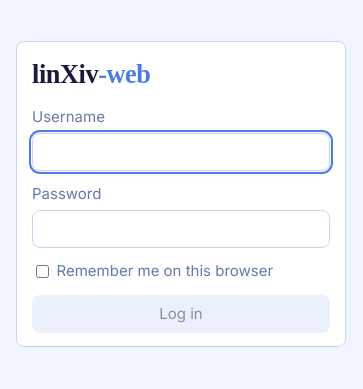
it: Login › shows the server error
Type "bob" into the field labelled "Username" at (181, 152), box 32,133 -> 330,171
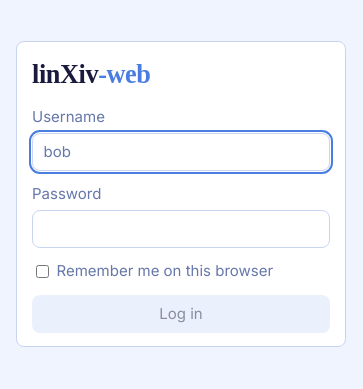
Type "nope-nope" into the password field labelled "Password" at (181, 229), box 32,210 -> 330,248
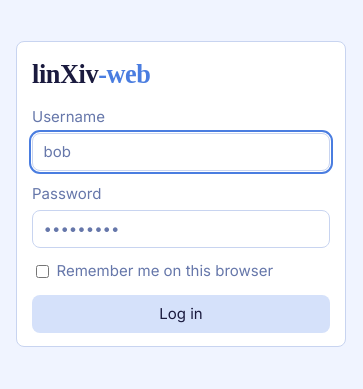
Click the button "Log in" at (181, 314), box 32,295 -> 330,333
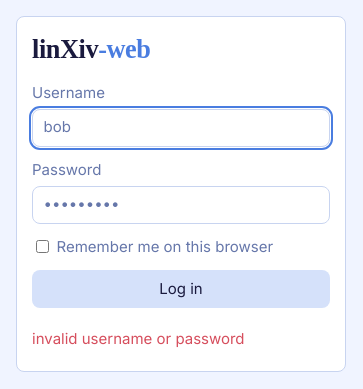
Expected: the text "invalid username or password" is shown, 32,329 -> 245,348
